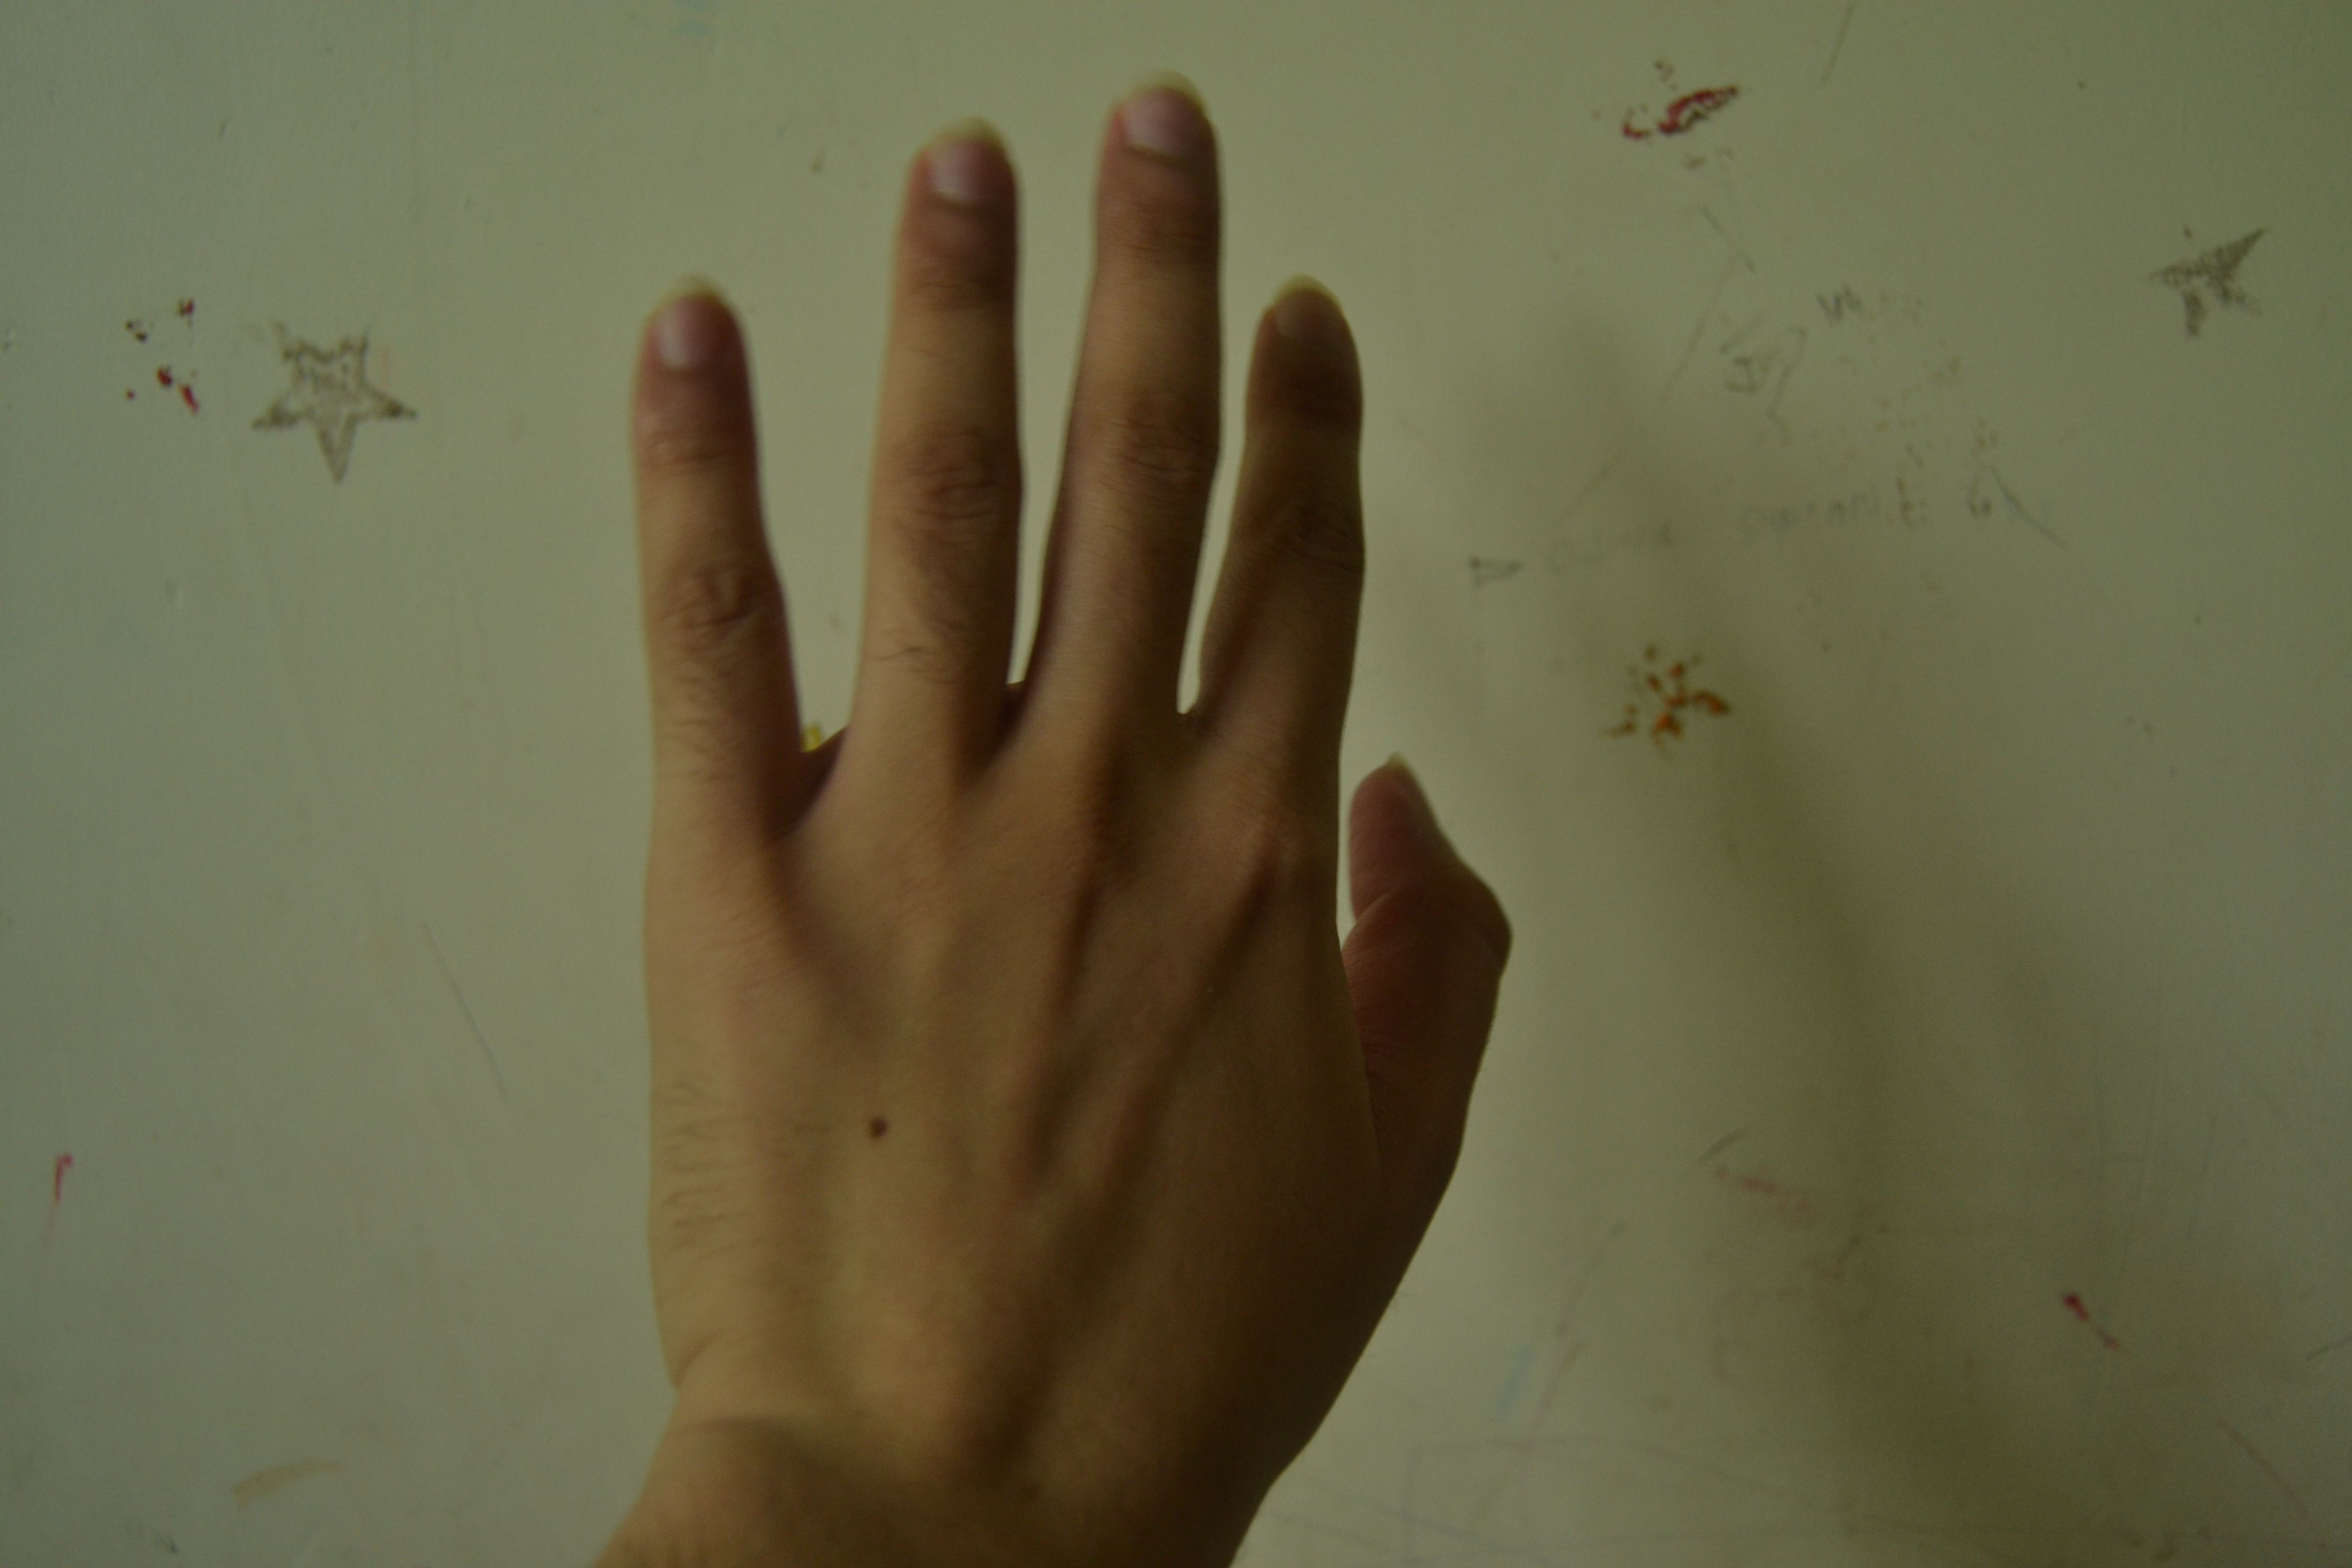move: (612, 54, 1536, 1505)
